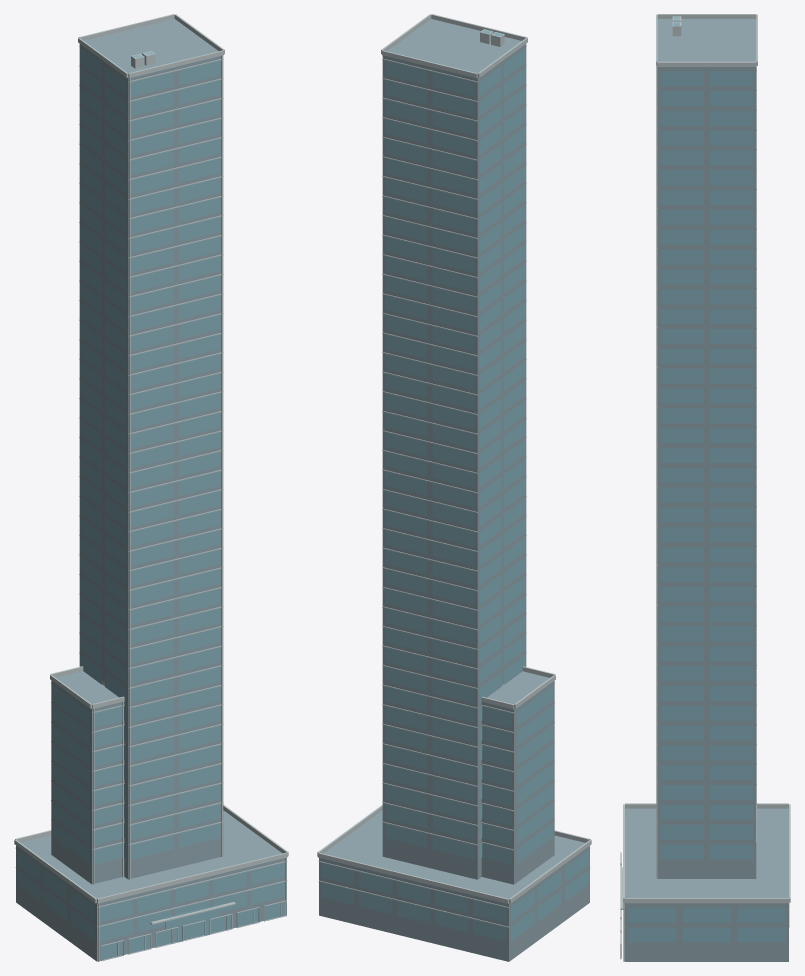
File: commercial_4x3_tower.glb
The picture shows the model from 3 angles, left to right: view 1: azimuth 30°, elevation 25°; view 2: azimuth 150°, elevation 25°; view 3: azimuth 270°, elevation 25°; orthographic projection.
Visible parts, largest first — view 1: commercial_4x3_tower_0; view 2: commercial_4x3_tower_0; view 3: commercial_4x3_tower_0.
Boxes of the visible parts, x1,y1,x2,y2 form: commercial_4x3_tower_0: [14, 14, 288, 961]; commercial_4x3_tower_0: [317, 14, 591, 961]; commercial_4x3_tower_0: [620, 14, 790, 961].
Bounding box in the file's own units: 31 × 134 × 23.4.
